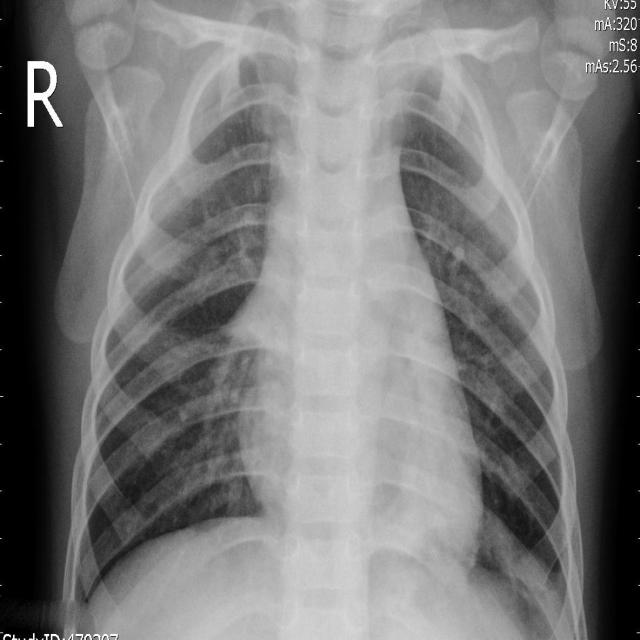low-pneumonia: (181, 349, 245, 502), (221, 22, 292, 146)
